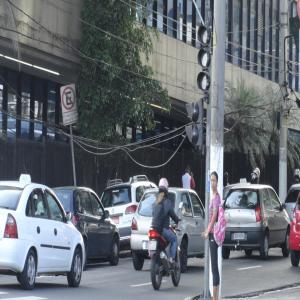Vehicle-registration-plate: (234, 232, 247, 240), (113, 215, 120, 228), (149, 240, 158, 250)
